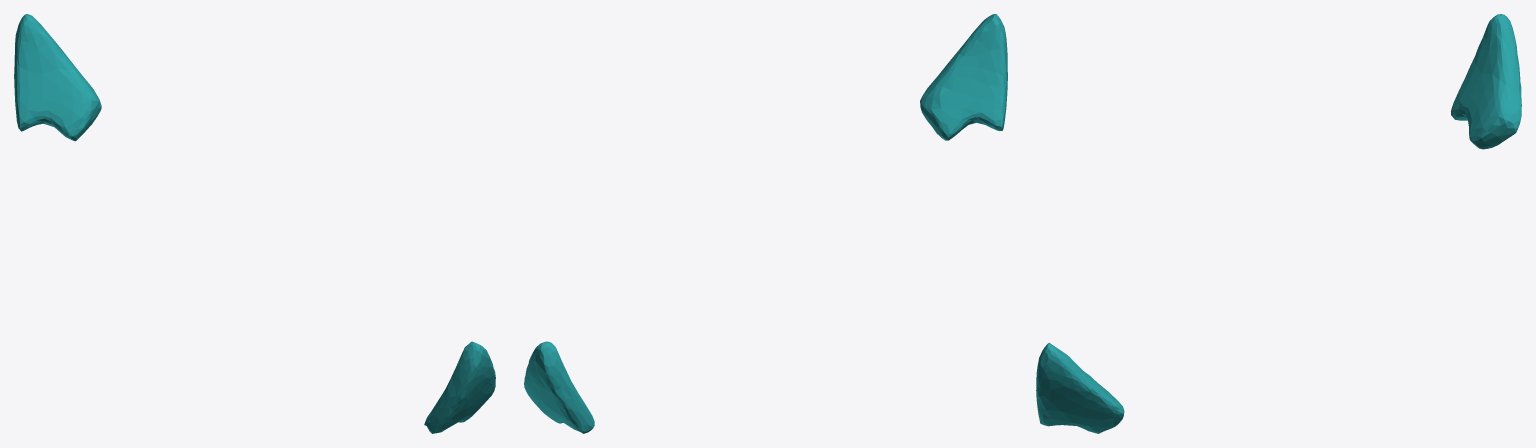
3 views of the same model, side by side, from view 1: azimuth 30°, elevation 25°; view 2: azimuth 150°, elevation 25°; view 3: azimuth 330°, elevation 25° (orthographic).
Parts seen in each view (by area): view 1: 312782644.obj; view 2: 312782644.obj; view 3: 312782644.obj.
Boxes of the visible parts, <box> form: 312782644.obj: <box>14,14,495,433</box>; 312782644.obj: <box>524,14,1007,433</box>; 312782644.obj: <box>1036,14,1521,433</box>.
Size of the model in its own units: 842 by 1144 by 8863.
